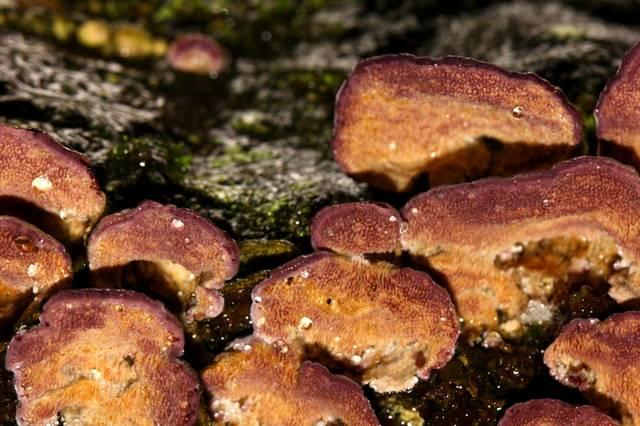poisonous_mushroom: (243, 170, 640, 426), (329, 51, 584, 191), (4, 286, 201, 425), (84, 198, 240, 320), (0, 121, 106, 243)
